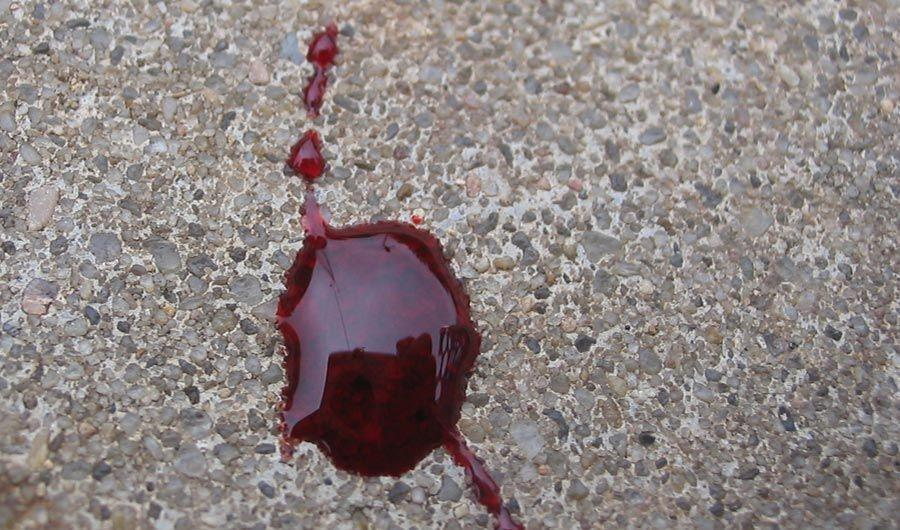Fire: (277, 130, 523, 530), (303, 21, 338, 116)
